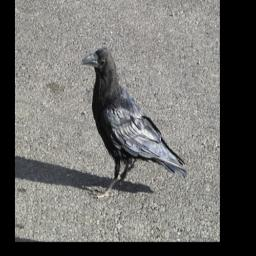Crow: (73, 41, 196, 215)
